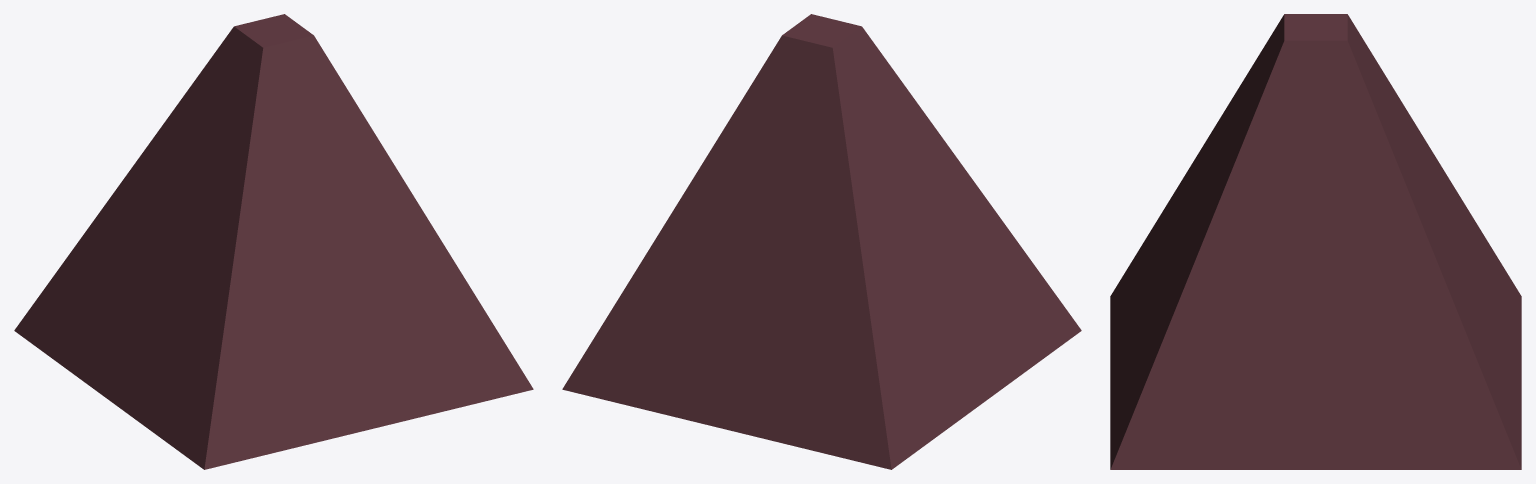
Rendered from obelisc1.fbx.
The picture shows the model from 3 angles, left to right: view 1: azimuth 30°, elevation 25°; view 2: azimuth 150°, elevation 25°; view 3: azimuth 270°, elevation 25°; orthographic projection. The views are drawn at different scales.
Parts seen in each view (by area): view 1: obelisk-old; view 2: obelisk-old; view 3: obelisk-old.
Part boxes in pixels (left/top/right/bottom): obelisk-old: left=14, top=14, right=533, bottom=469; obelisk-old: left=562, top=14, right=1081, bottom=469; obelisk-old: left=1110, top=14, right=1521, bottom=469.
Bounding box in the file's own units: 130 × 124 × 130.
